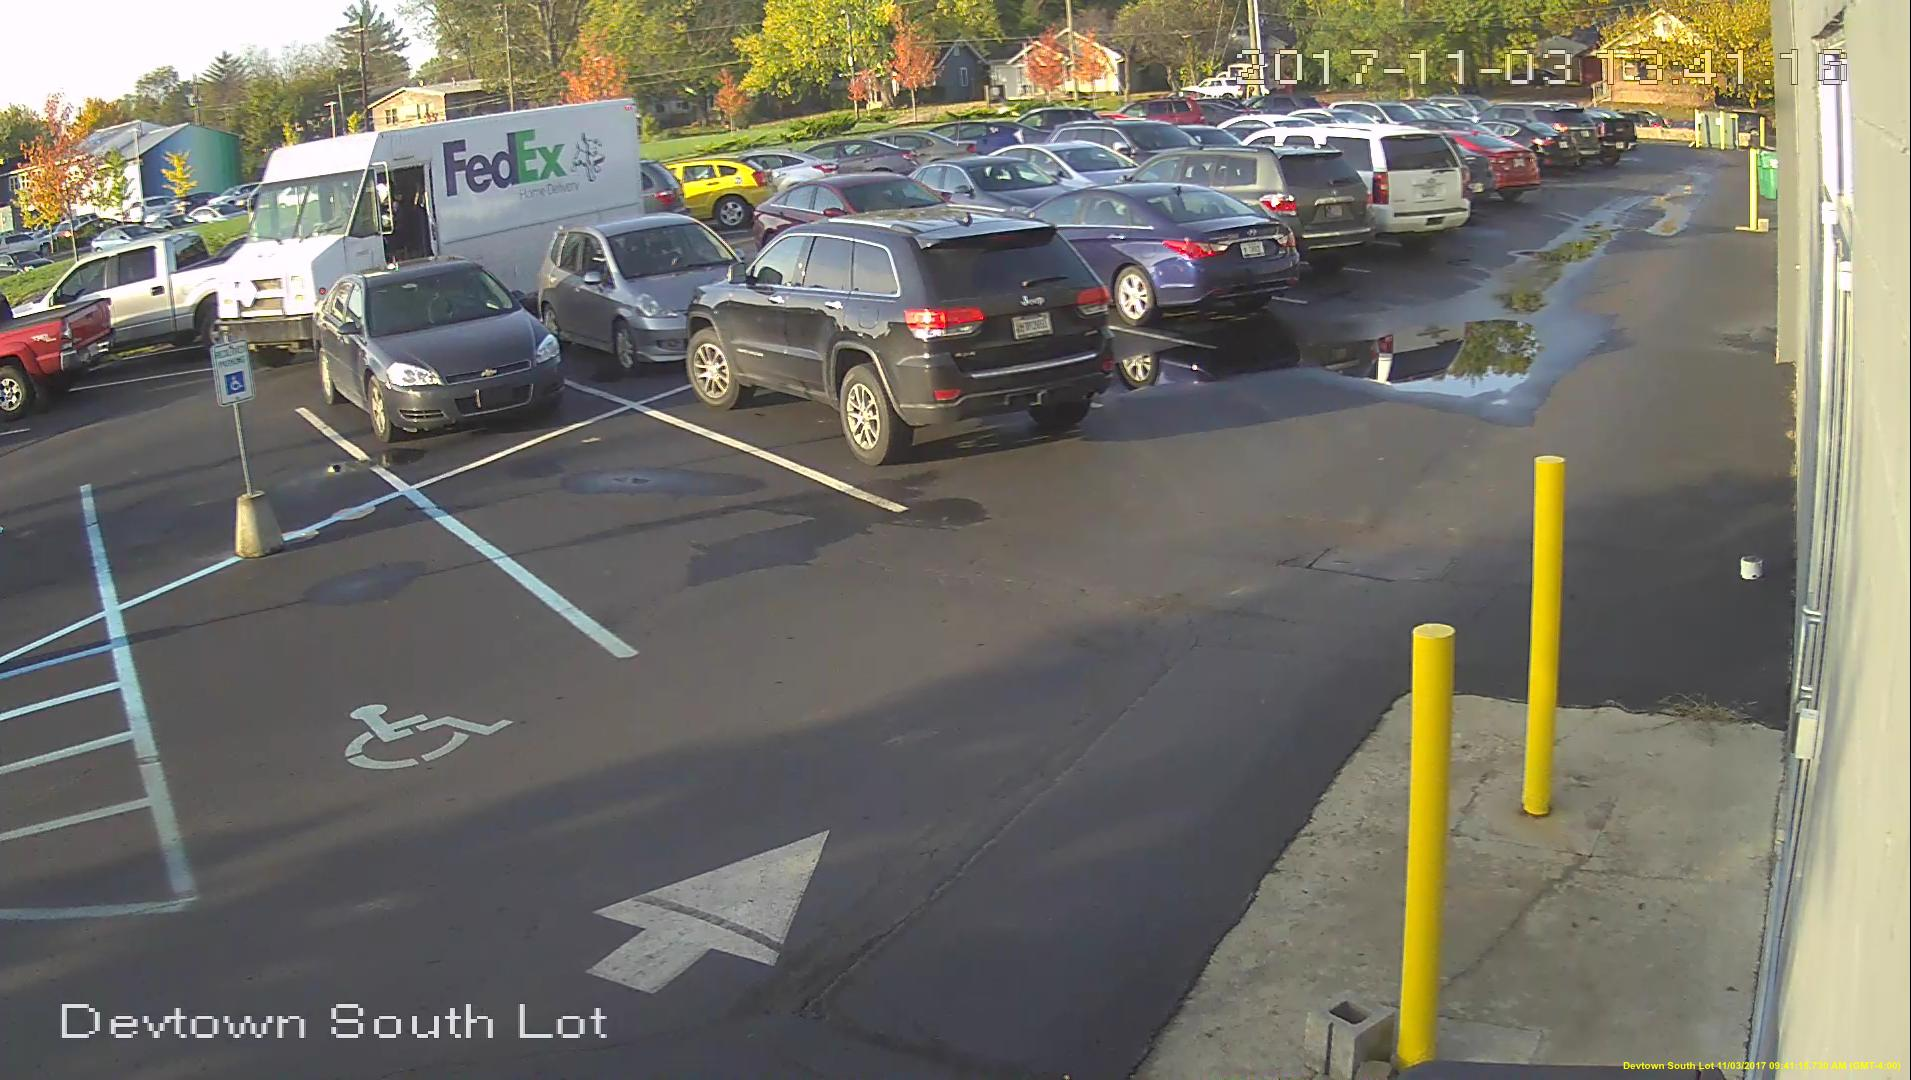fedex_truck: (209, 94, 652, 346)
